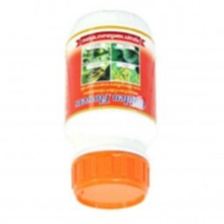insecticide: (62, 3, 162, 211)
